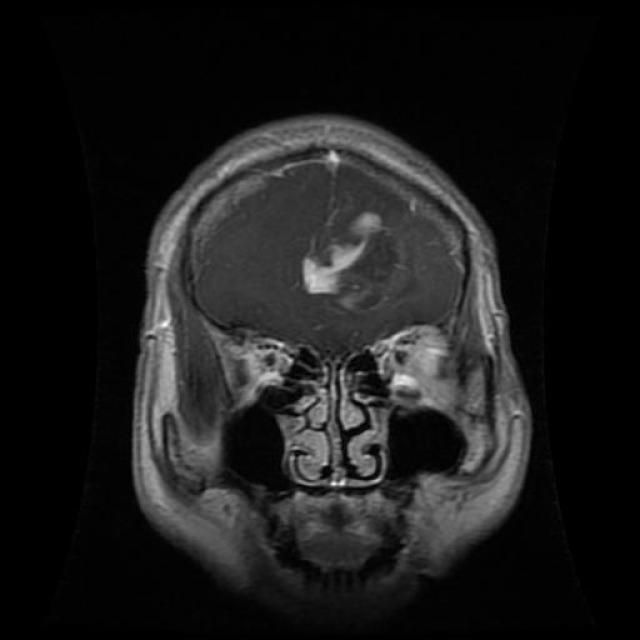glioma: (296, 208, 406, 312)
